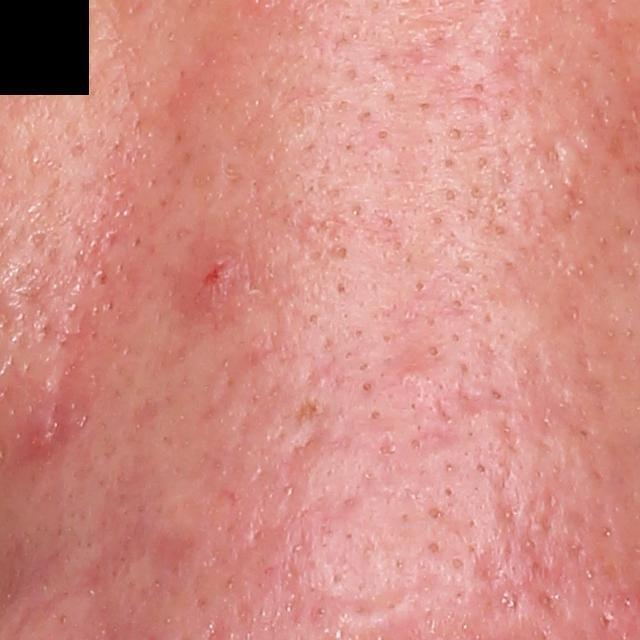comedo: (332, 243, 350, 263), (367, 407, 386, 425), (446, 125, 465, 142), (405, 435, 422, 452), (427, 506, 445, 522), (374, 127, 392, 143), (425, 342, 441, 359), (358, 380, 375, 396), (450, 554, 467, 570), (347, 202, 363, 219), (441, 187, 456, 205), (425, 540, 441, 555), (307, 312, 322, 326), (442, 485, 456, 500), (473, 80, 487, 95), (336, 280, 348, 297), (416, 100, 432, 112), (380, 332, 392, 346), (475, 155, 487, 169), (475, 462, 486, 475), (449, 332, 461, 343)
papule: (173, 244, 252, 321), (23, 405, 65, 460)
